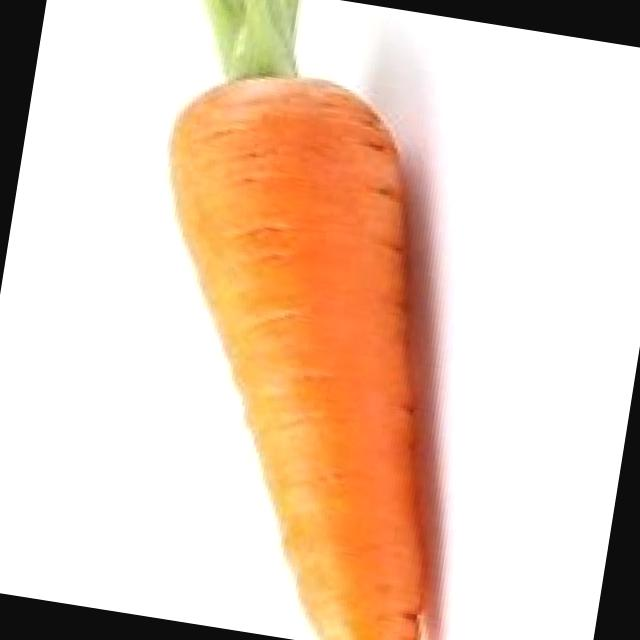carrot: (170, 75, 431, 640)
